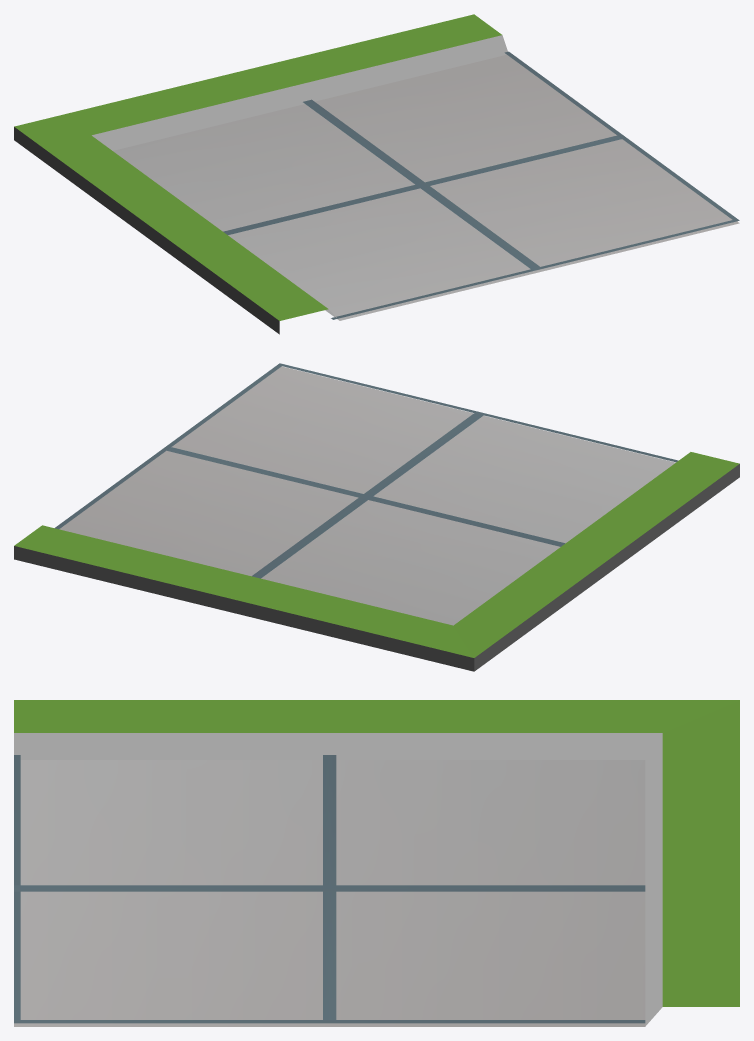
The model's file is Corner_Tile.fbx.
3 renders of one model, top to bottom at view 1: azimuth 30°, elevation 25°; view 2: azimuth 150°, elevation 25°; view 3: azimuth 270°, elevation 25°, orthographic. The views are drawn at different scales.
Parts seen in each view (by area): view 1: Corner_Tile; view 2: Corner_Tile; view 3: Corner_Tile.
Boxes of the visible parts, x1,y1,x2,y2 form: Corner_Tile: (14,14,739,334); Corner_Tile: (14,363,739,671); Corner_Tile: (14,700,739,1026).
Bounding box in the file's own units: 0.8694 × 0.0263 × 0.8694.
